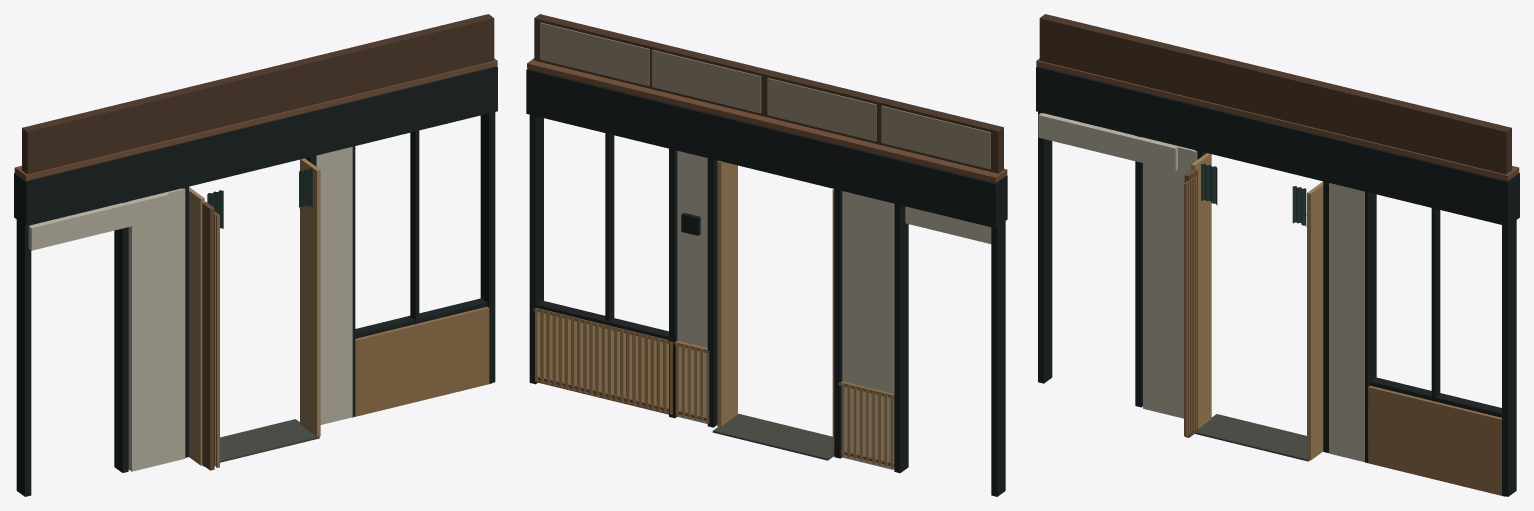
Rendered from entry.glb.
3 renders of one model, left to right at view 1: azimuth 30°, elevation 25°; view 2: azimuth 150°, elevation 25°; view 3: azimuth 330°, elevation 25°, orthographic.
Parts seen in each view (by area): view 1: Waraku_entry; view 2: Waraku_entry; view 3: Waraku_entry.
Part boxes in pixels (left/top/right/bottom): Waraku_entry: left=14, top=14, right=497, bottom=496; Waraku_entry: left=526, top=14, right=1007, bottom=496; Waraku_entry: left=1036, top=14, right=1519, bottom=496.
Size of the model in its own units: 4.36 by 3.24 by 0.5594.
